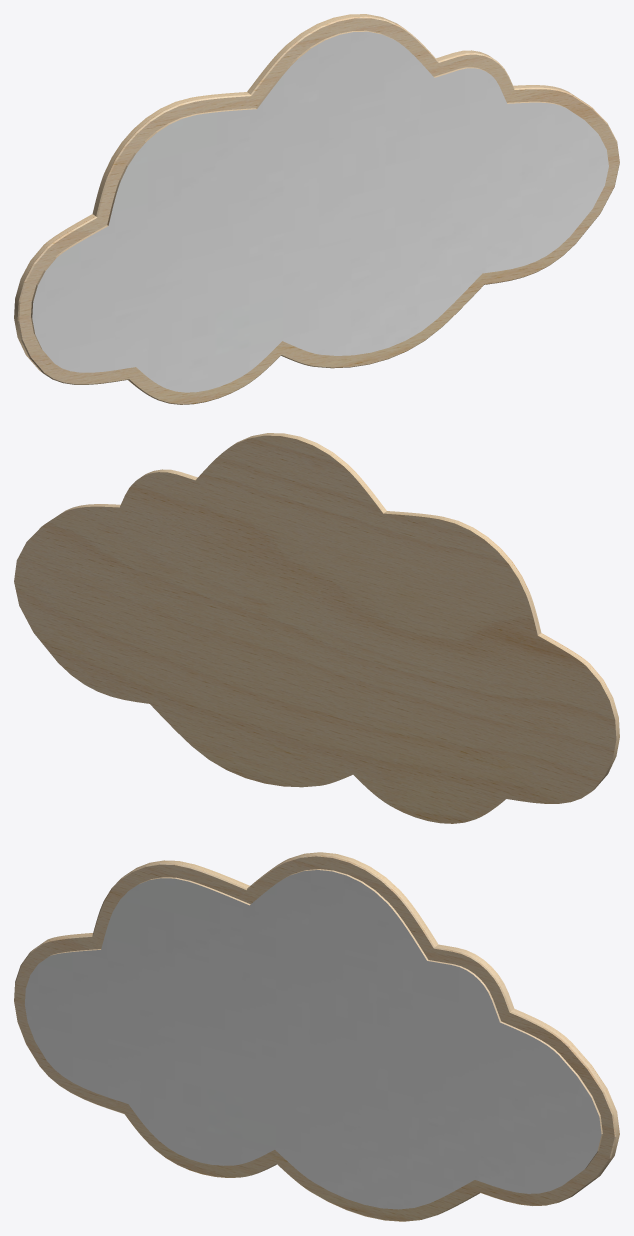
Rendered from Mirror.fbx.
The picture shows the model from 3 angles, top to bottom: view 1: azimuth 30°, elevation 25°; view 2: azimuth 150°, elevation 25°; view 3: azimuth 330°, elevation 25°; orthographic projection.
Parts seen in each view (by area): view 1: Mirror; view 2: Mirror; view 3: Mirror.
Part boxes in pixels (left/top/right/bottom): Mirror: left=14, top=14, right=619, bottom=404; Mirror: left=14, top=433, right=619, bottom=823; Mirror: left=14, top=852, right=619, bottom=1221.
Size of the model in its own units: 51.6 by 28.82 by 0.8232.
2 materials, 2 textured.
